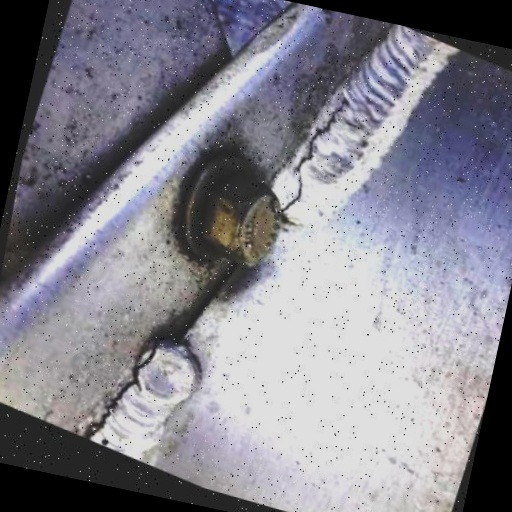crack: (266, 65, 370, 238), (82, 313, 172, 460)
